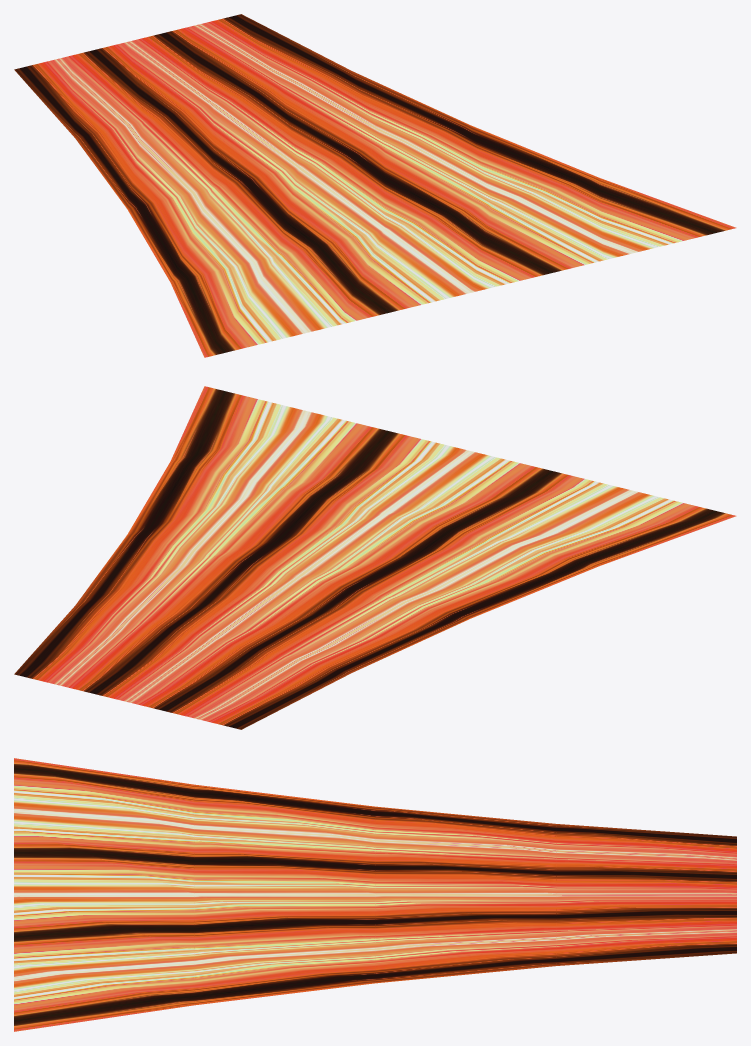
The model's file is dai_001.FBX.
The picture shows the model from 3 angles, top to bottom: view 1: azimuth 30°, elevation 25°; view 2: azimuth 150°, elevation 25°; view 3: azimuth 270°, elevation 25°; orthographic projection. The views are drawn at different scales.
Parts seen in each view (by area): view 1: Plane001; view 2: Plane001; view 3: Plane001.
Part boxes in pixels (x1,y1,x2,y2): Plane001: [14, 14, 736, 357]; Plane001: [14, 386, 736, 729]; Plane001: [14, 758, 736, 1031].
Size of the model in its own units: 95.36 by 3.01e-14 by 106.
